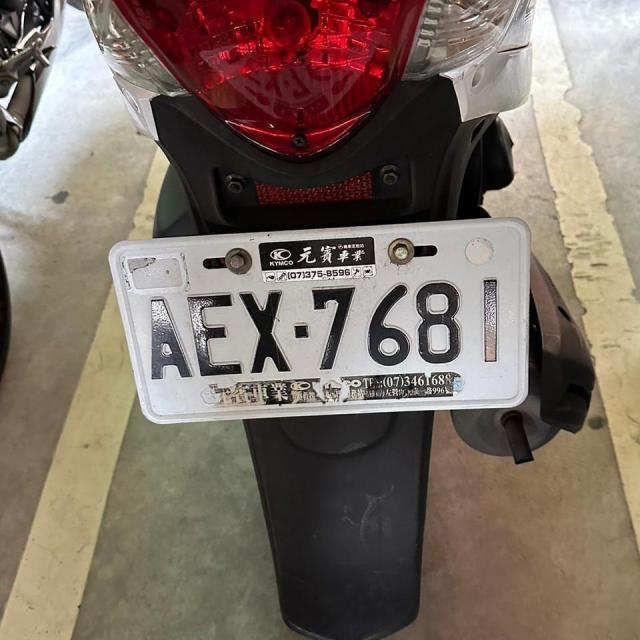W: (109, 212, 537, 429)
